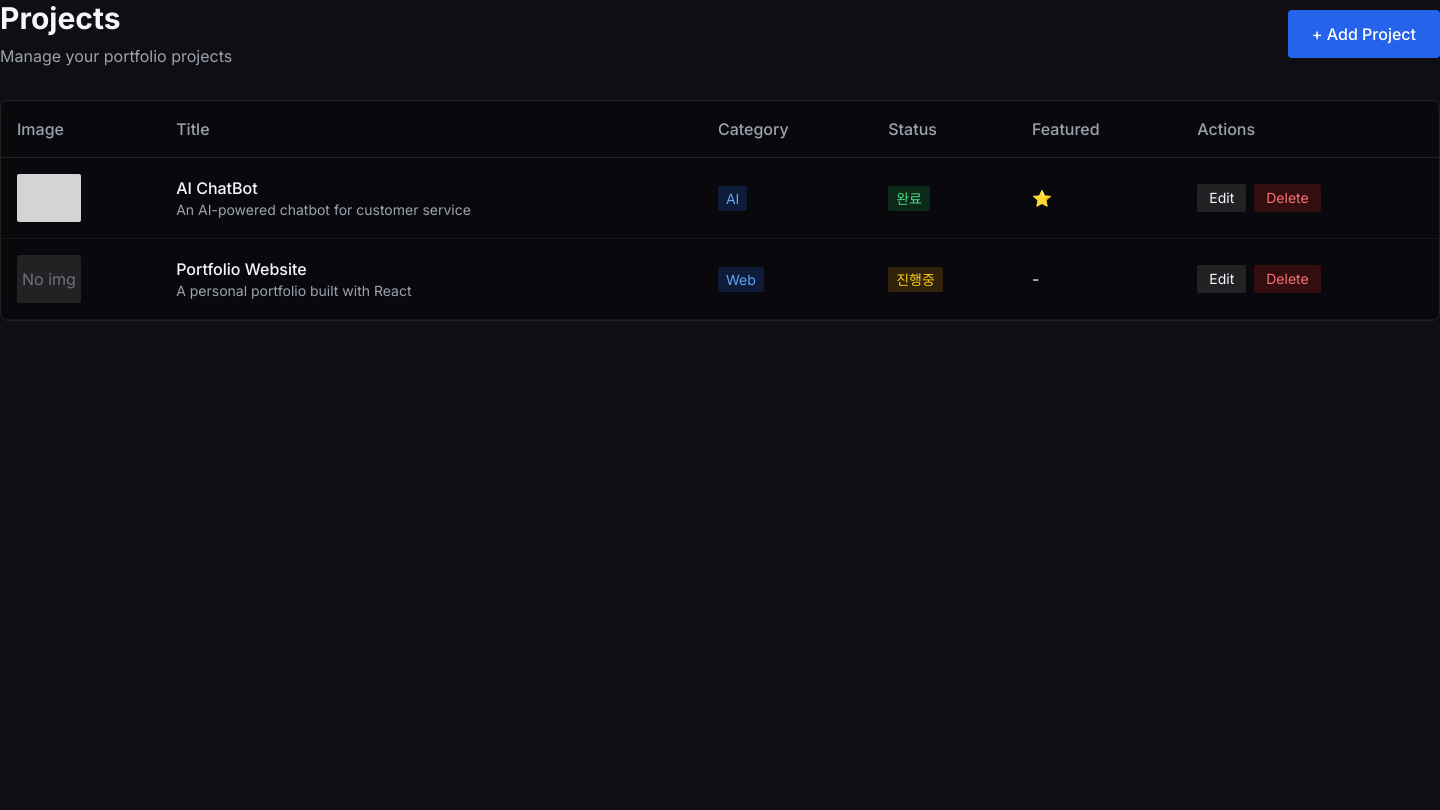
Scenario: ProjectsAdmin › Delete button shows confirmation modal
This screenshot has width=1440, height=810.
Check: the text "AI ChatBot" is shown, box left=176, top=178, right=258, bottom=198
What coordinates should you click on to do the following:
click the button "Delete" in the row of "AI ChatBot"
I would click on:
 (1287, 198)
Its box is left=1254, top=184, right=1321, bottom=212.
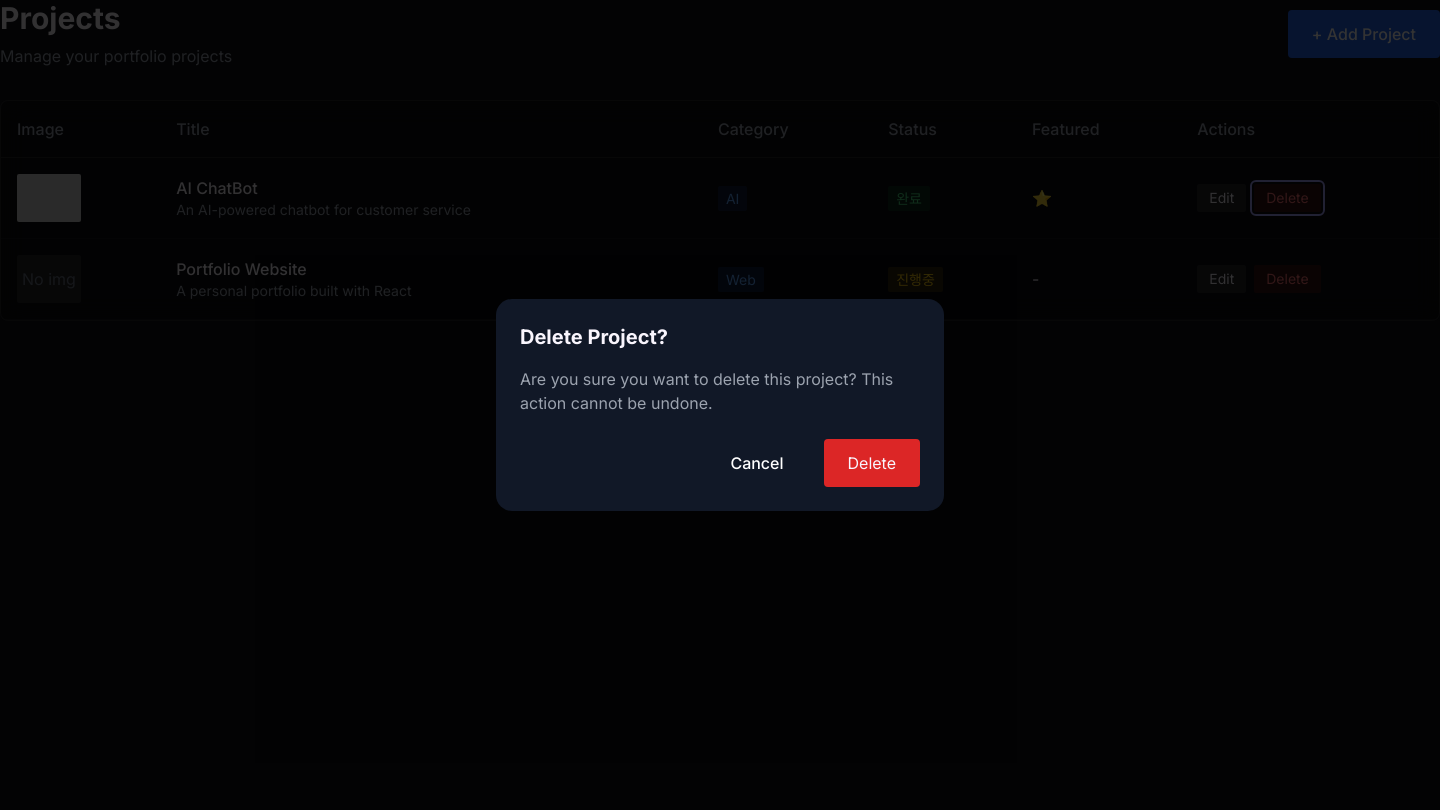
Check: the heading "Delete Project?" is shown, box left=520, top=325, right=668, bottom=349
Check: the text "Are you sure you want to delete this project" is shown, box left=520, top=369, right=893, bottom=413
